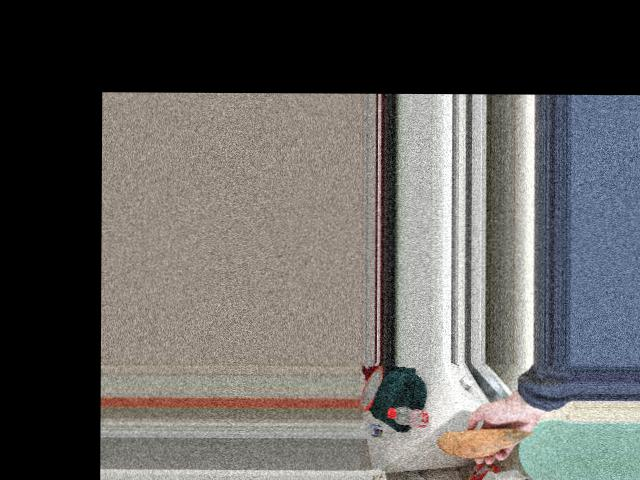sweet_potato: (446, 427, 526, 459)
